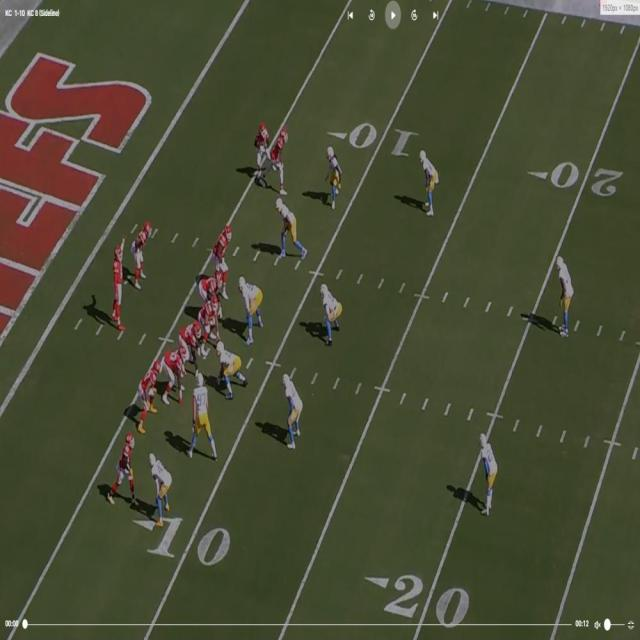center: (204, 297, 222, 347)
db: (555, 251, 572, 334), (481, 436, 498, 509), (420, 149, 438, 213), (327, 146, 341, 195)
lb: (149, 452, 173, 528), (285, 373, 301, 447), (277, 200, 296, 262), (321, 282, 338, 342)
qb: (113, 243, 123, 325)
skill: (137, 358, 161, 429), (114, 438, 134, 500), (133, 222, 149, 290), (266, 124, 284, 182), (254, 122, 270, 176)
